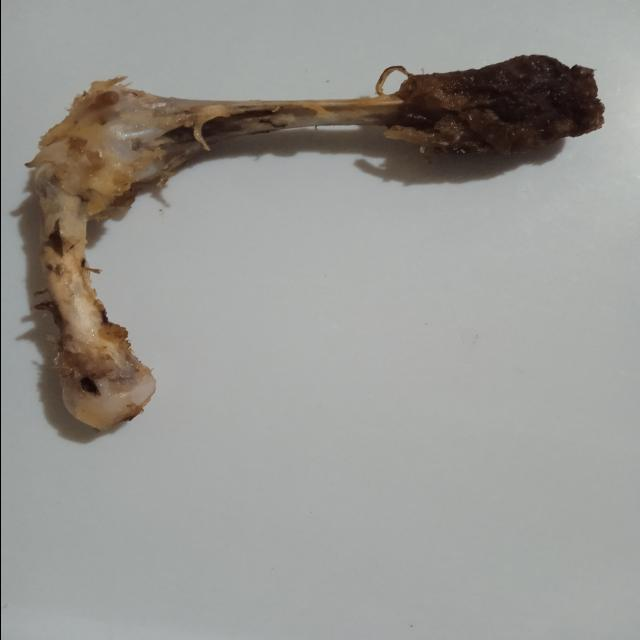bone: (0, 37, 625, 452)
